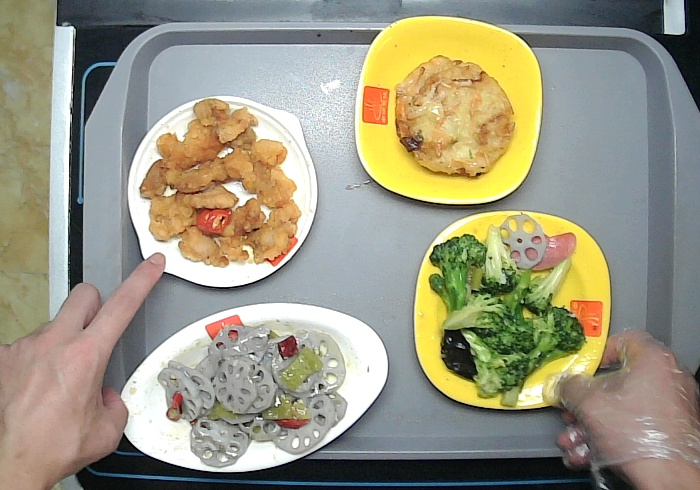SHKJ-Bao_Yu_Pan: (124, 95, 318, 292)
SHKJ-Huang_Se_Cai_Die: (355, 15, 544, 206)
SHKJ-Huang_Se_Si_Fang_Cai_Die: (413, 210, 612, 411)
SHKJ-Yu_Pan: (117, 302, 389, 472)
